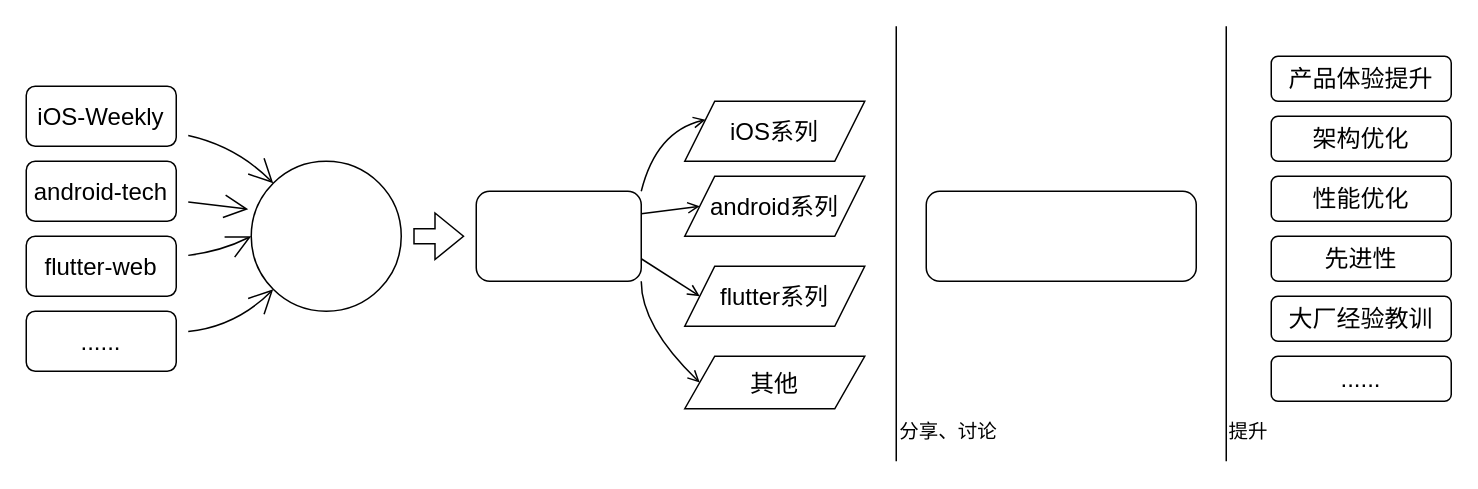
Image size: 1478x489. Some labels were removed from this diagram. The box of each missing label's shape, as (x1, y1, x2, y2) in pixels:
CI: (250, 160, 401, 311)
季度分享｜PL｜产品、项目经理: (925, 190, 1196, 281)
每月自动整理: (475, 190, 641, 281)
